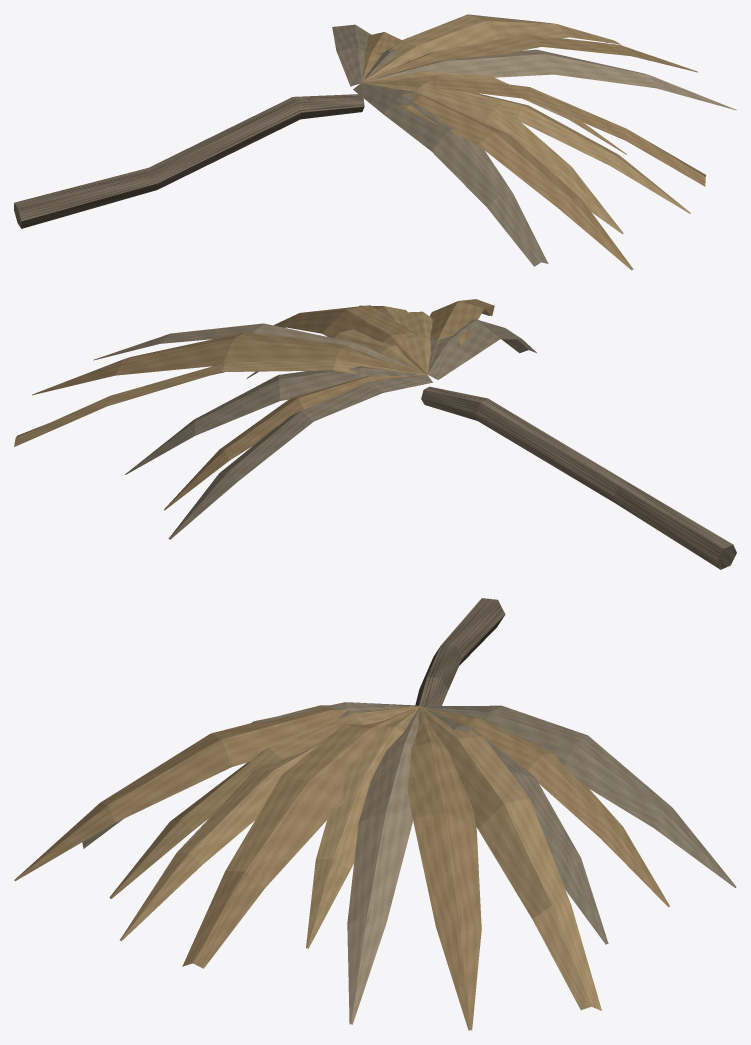
The model's file is nb_frond_palmetto.glb.
3 views of the same model, one above another, from view 1: azimuth 30°, elevation 25°; view 2: azimuth 150°, elevation 25°; view 3: azimuth 270°, elevation 25° (orthographic). The views are drawn at different scales.
Visible parts, largest first — view 1: Dry_Palmetto_Frond_Broken; view 2: Dry_Palmetto_Frond_Broken; view 3: Dry_Palmetto_Frond_Broken.
Part boxes in pixels (x1,y1,x2,y2): Dry_Palmetto_Frond_Broken: (14, 14, 736, 270); Dry_Palmetto_Frond_Broken: (14, 299, 736, 569); Dry_Palmetto_Frond_Broken: (14, 598, 736, 1030).
Bounding box in the file's own units: 1.37 × 0.1982 × 1.04.
1 material, 1 textured.
